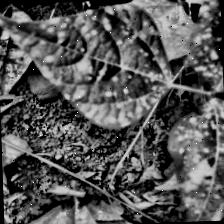Bean Rust: (0, 0, 174, 134), (166, 100, 224, 222), (182, 0, 223, 91)
